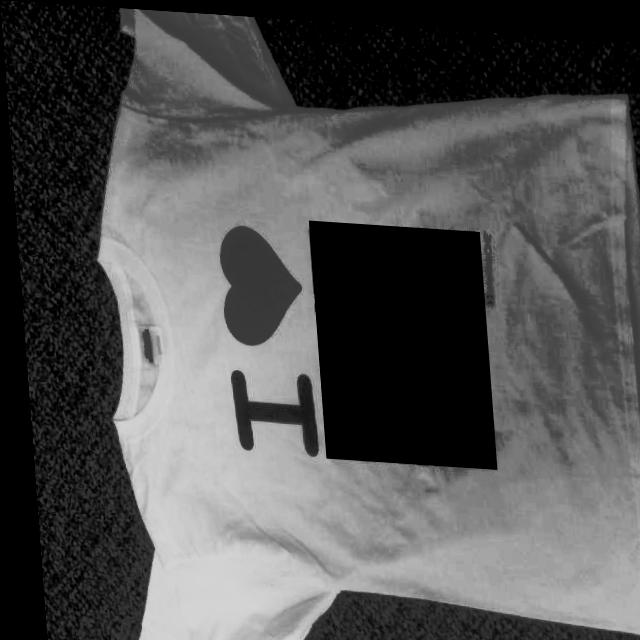qr_code: (306, 216, 491, 463)
